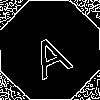A: (25, 25, 74, 80)
